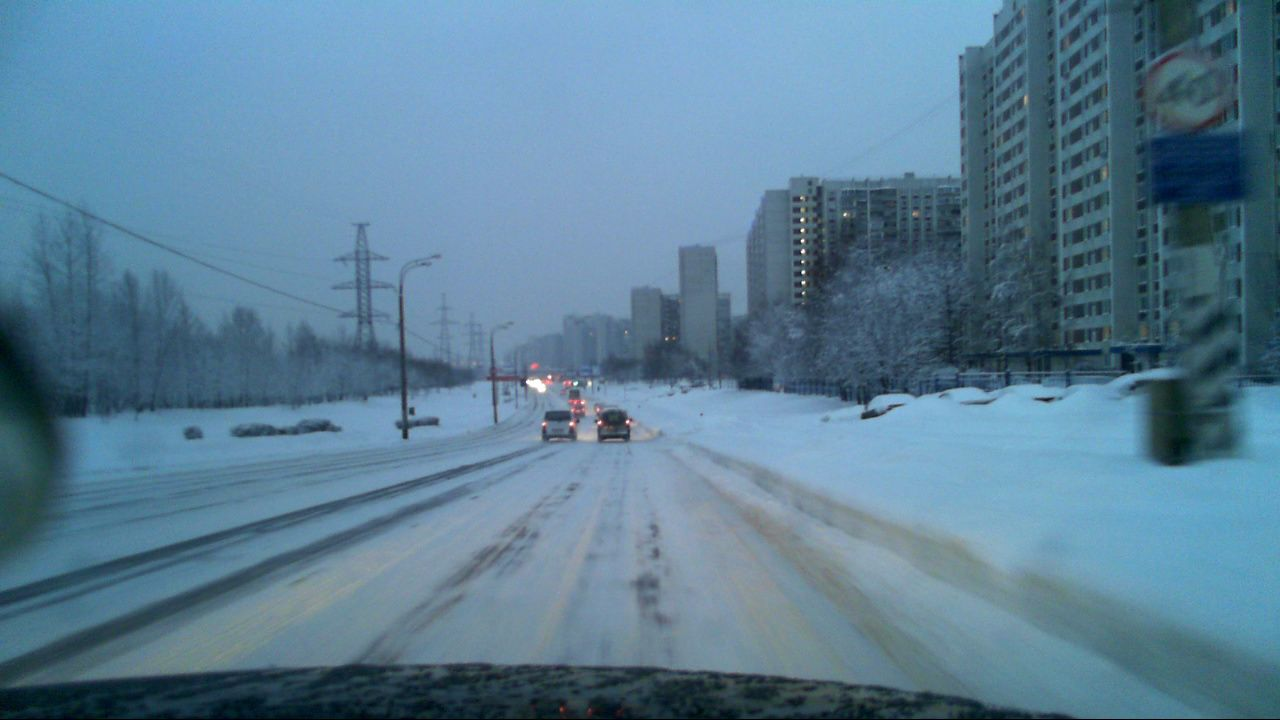speed_warning_40: (1144, 52, 1231, 127)
